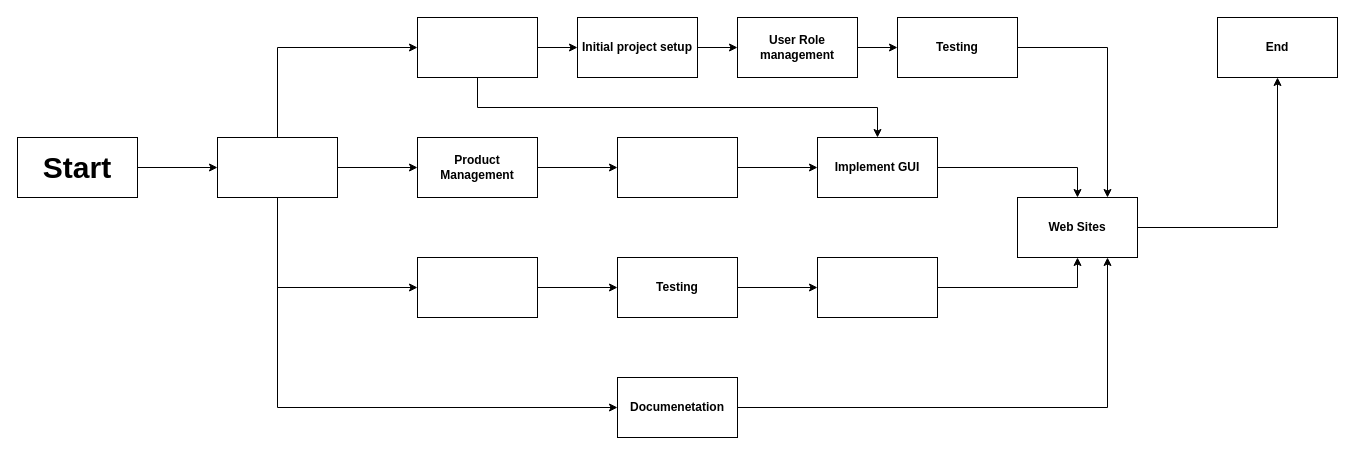
Image size: 1355x455. Some labels were removed from this diagram. The shapes that lost their labels are listed below. From the top down, each one's centre as x and y in pixels, then its label:
(x=477, y=47): Design GUI
(x=277, y=167): System Analysis and Requirement Gathering
(x=677, y=167): Other Management
(x=477, y=287): Database Implementation
(x=877, y=287): Evaluation
